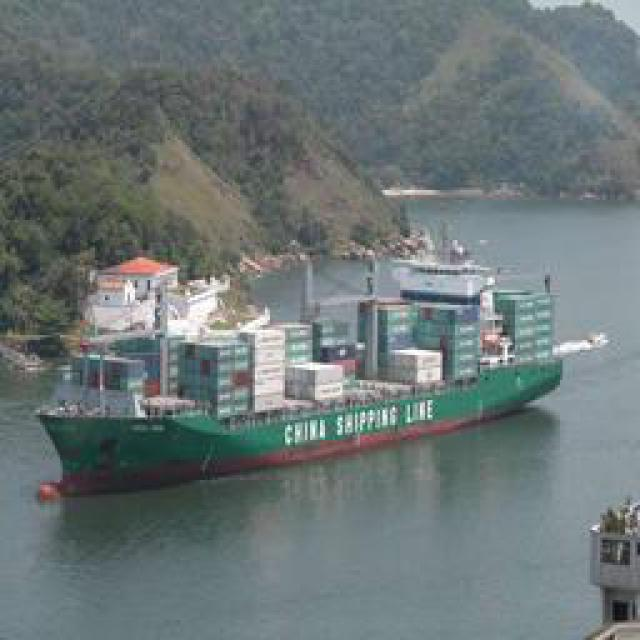Ship: (40, 230, 571, 503)
